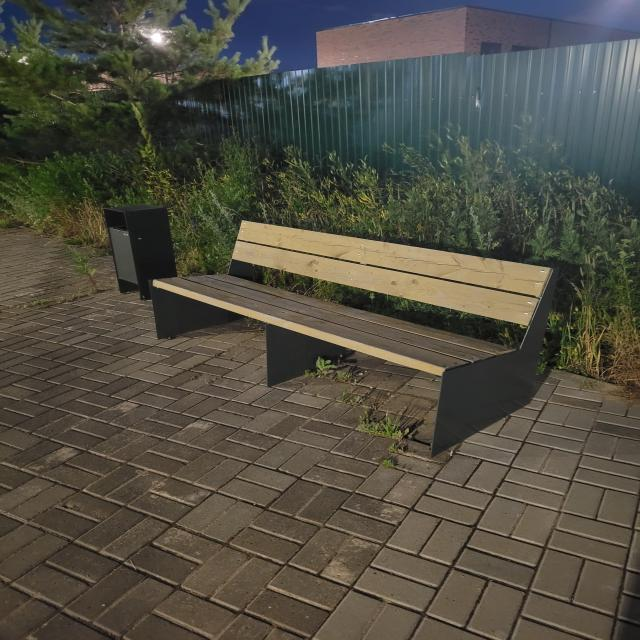Bench: (149, 220, 558, 459)
